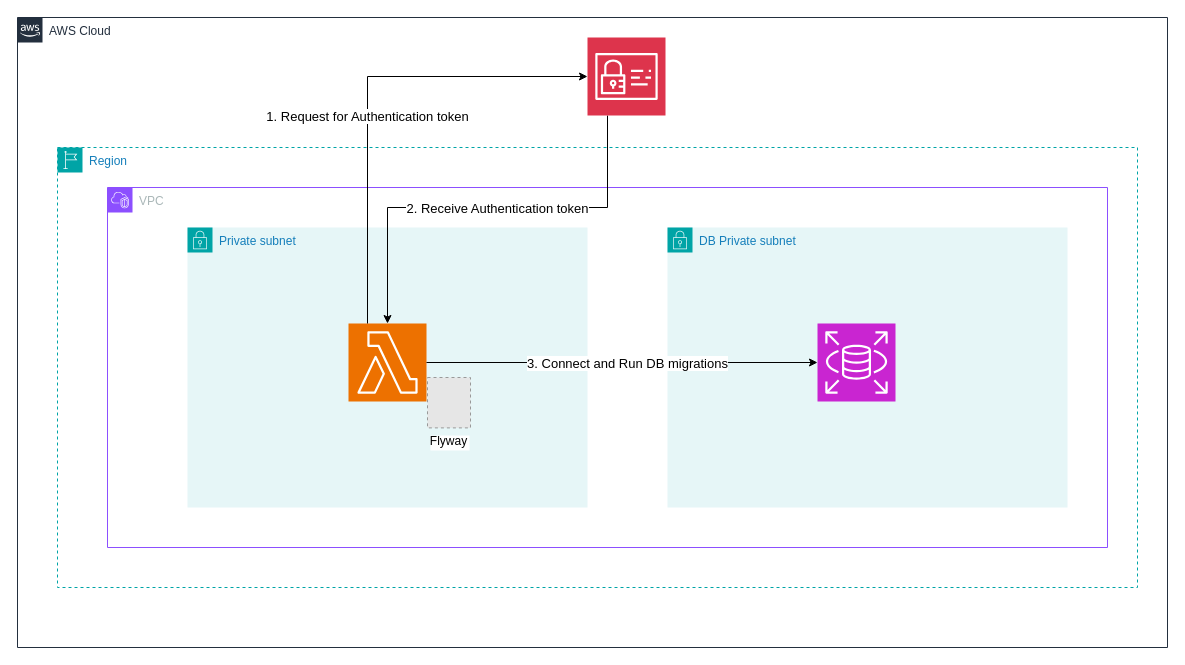
This 1185x665 diagram has some shape labels left out. Grey dashed boxes stand in for pictures. The centre of each missing label's shape, as x and y in pixels:
IAM: the point at 626,76
Lambda: the point at 387,362
RDS: the point at 856,362
